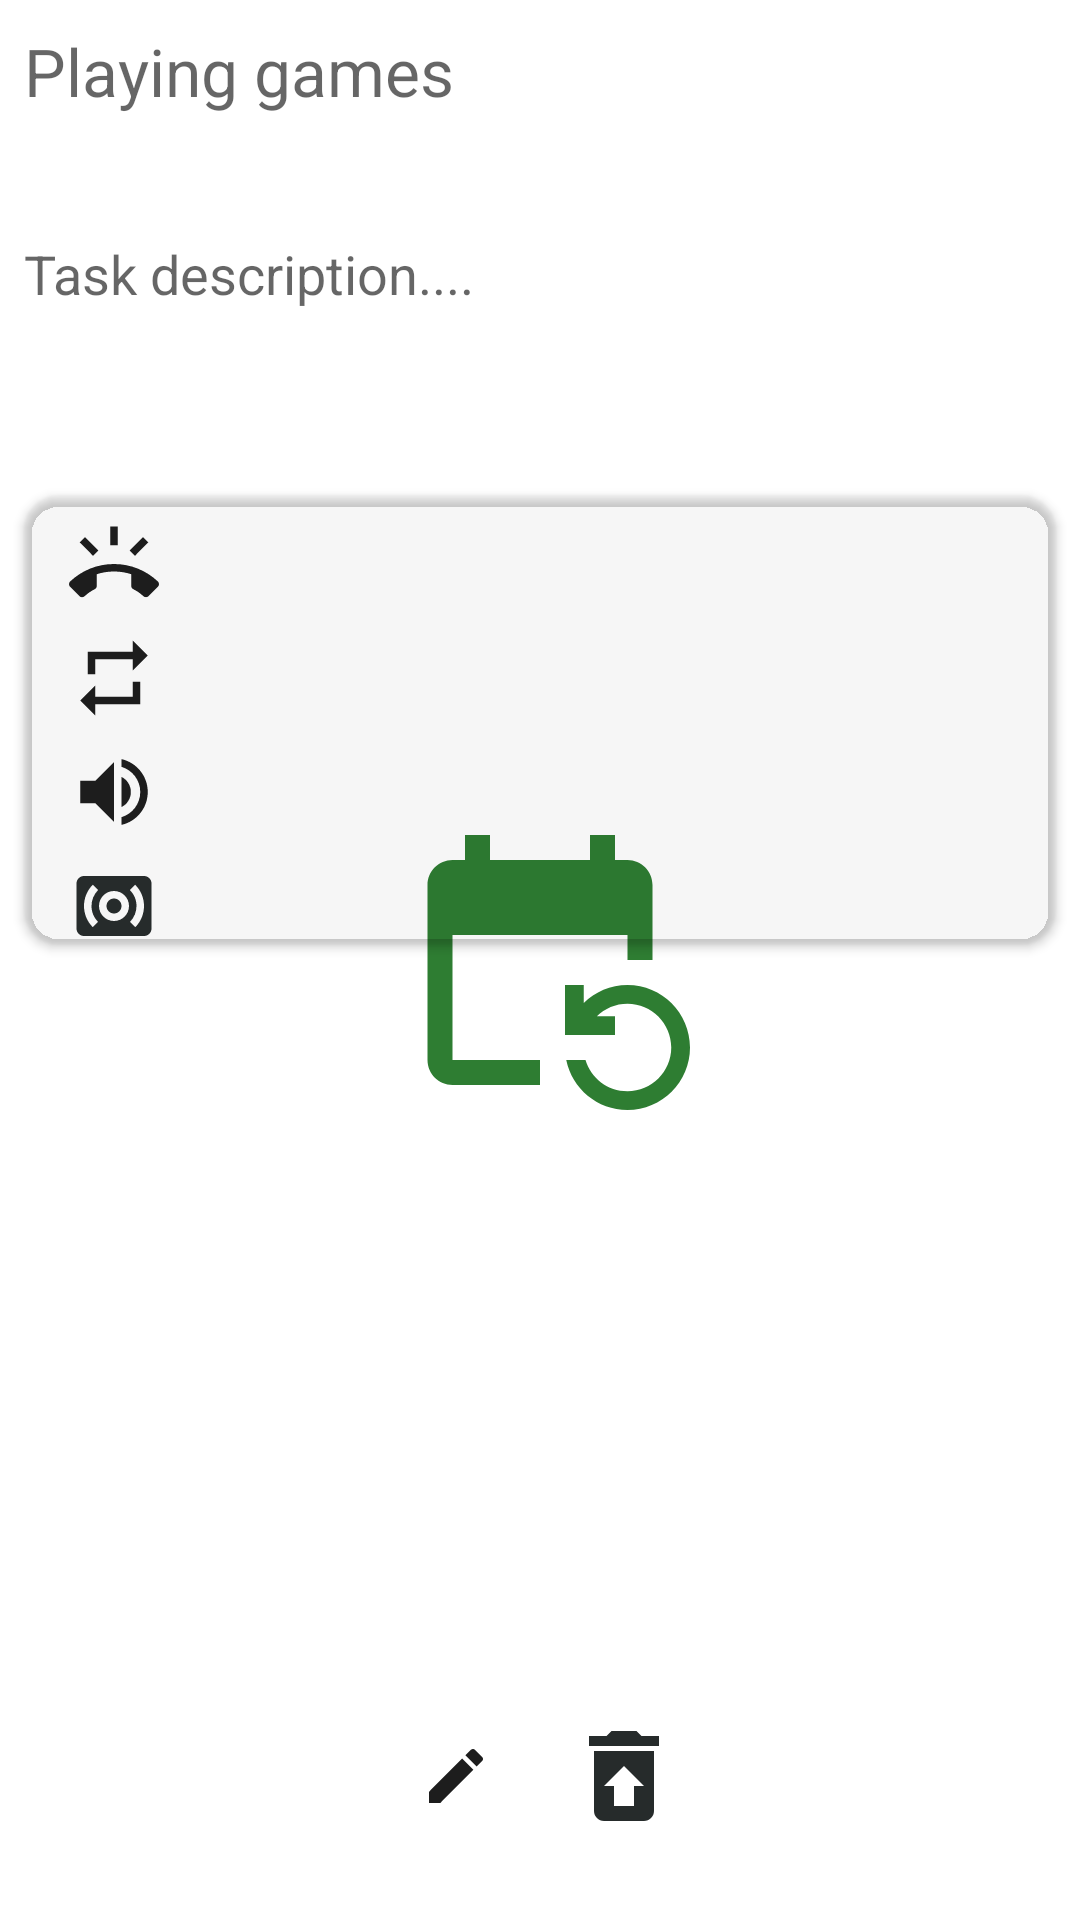

Named icons in this screenshot (1080x1920) and their centers, (x,y):
edit: (456,1776)
repeat: (114,678)
restore from trash: (624,1776)
ring volume: (114,562)
surround sound: (114,906)
volume up: (114,792)
